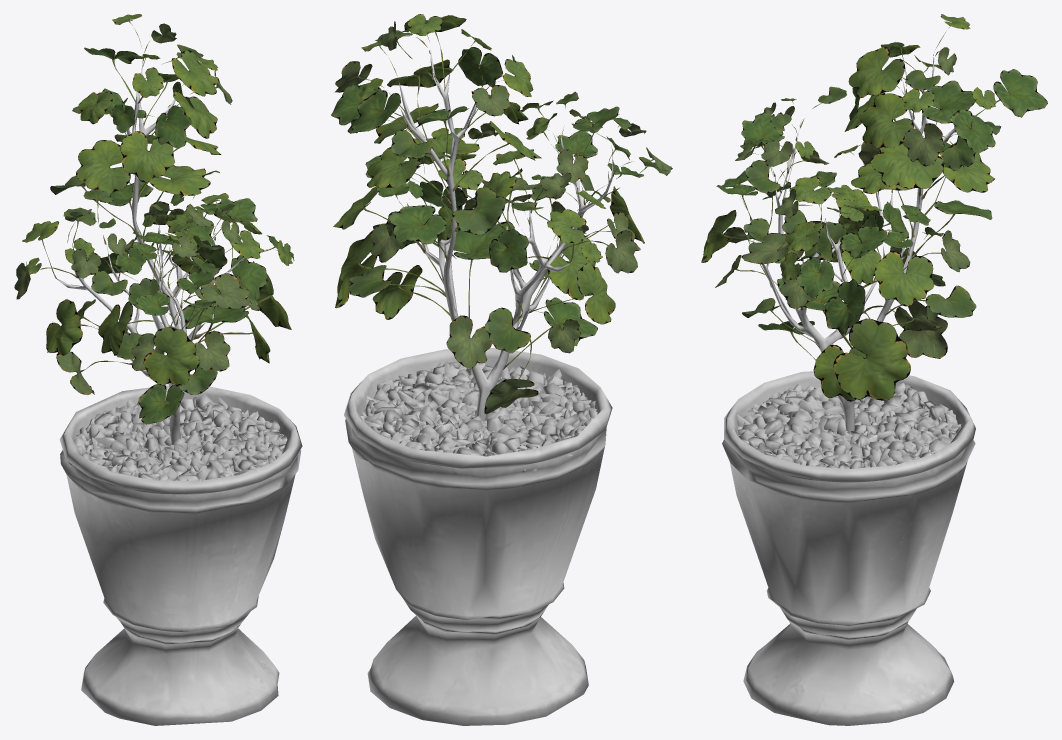
Rendered from plant-large.glb.
3 views of the same model, side by side, from view 1: azimuth 30°, elevation 25°; view 2: azimuth 150°, elevation 25°; view 3: azimuth 270°, elevation 25° (orthographic). The views are drawn at different scales.
Parts seen in each view (by area): view 1: potted_plant_01_pot, potted_plant_01_leaves, potted_plant_01_pebbles, potted_plant_01_stem; view 2: potted_plant_01_pot, potted_plant_01_leaves, potted_plant_01_pebbles, potted_plant_01_stem; view 3: potted_plant_01_pot, potted_plant_01_leaves, potted_plant_01_pebbles, potted_plant_01_stem.
Boxes of the visible parts, x1,y1,x2,y2 form: potted_plant_01_pot: (59, 385, 302, 725); potted_plant_01_leaves: (14, 14, 294, 424); potted_plant_01_pebbles: (68, 393, 287, 493); potted_plant_01_stem: (55, 58, 244, 444); potted_plant_01_pot: (344, 348, 612, 725); potted_plant_01_leaves: (331, 14, 672, 414); potted_plant_01_pebbles: (360, 361, 597, 474); potted_plant_01_stem: (398, 48, 613, 420); potted_plant_01_pot: (722, 371, 975, 725); potted_plant_01_leaves: (701, 14, 1047, 401); potted_plant_01_pebbles: (736, 383, 967, 468); potted_plant_01_stem: (753, 57, 955, 434).
Size of the model in its own units: 0.5871 by 1.33 by 0.6336.
Materials: 2 (2 with a texture image).
